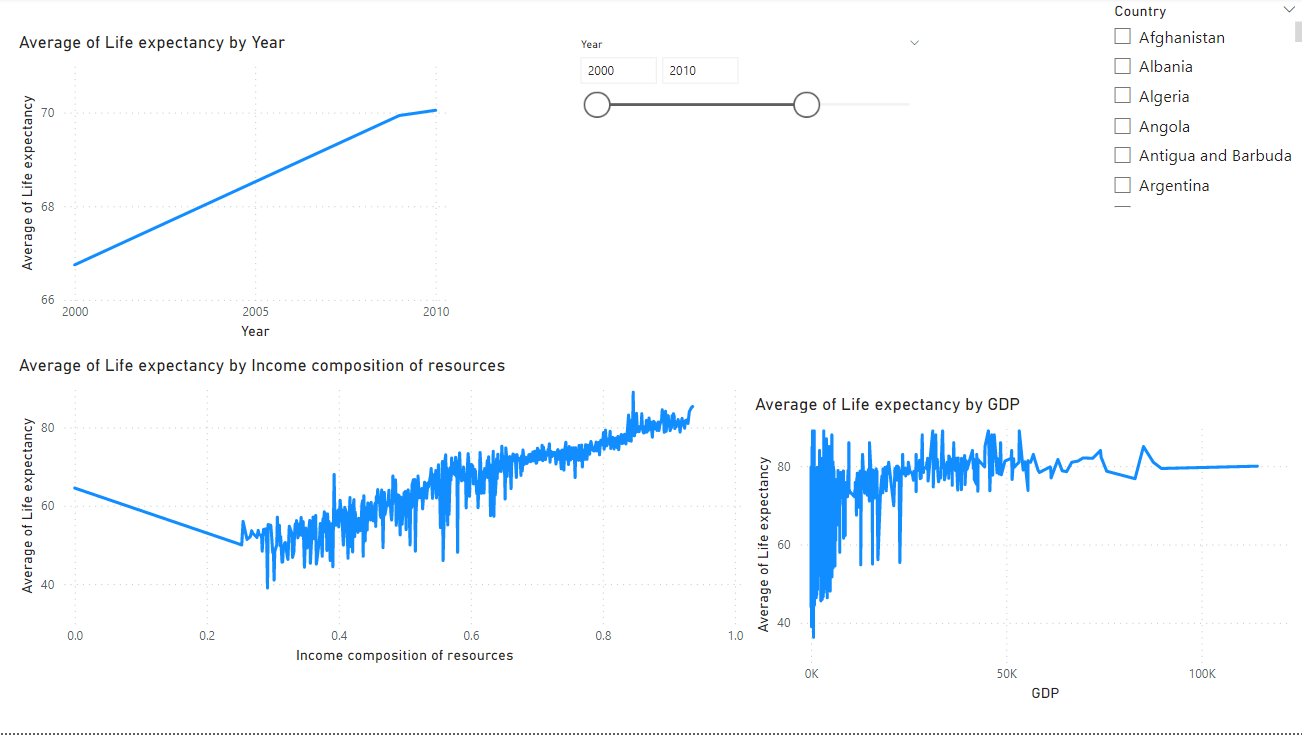

What the dashboard file says about the page in this screenshot:
{"tool":"powerbi","page":{"name":"Life_expectancy_analysis","canvas":[1280,720],"ordinal":1},"visuals":[{"type":"lineChart","fields":{"Category":["in.Year"],"Y":["Avg(in.Life expectancy )"]},"box":[13.7,34.3,430.9,306],"z":0},{"type":"slicer","fields":{"Values":["in.Country"]},"box":[1076.9,0,202.9,210.3],"z":3000},{"type":"lineChart","fields":{"Y":["Avg(in.Life expectancy )"],"Category":["in.Income composition of resources"]},"box":[13.4,349.6,720,306.8],"z":3001},{"type":"lineChart","fields":{"Y":["Avg(in.Life expectancy )"],"Category":["in.GDP"]},"box":[733.4,387.5,536.6,306.8],"z":3002},{"type":"slicer","fields":{"Values":["in.Year"]},"box":[555,34.2,356.9,118.6],"z":3003}]}

Visuals, with their boxes in screenshot pixels (x1, y1, x2, y2), scaled from the page's 1280x720 canvas onto the 1302x736 screenshot:
lineChart - in.Year x Avg(in.Life expectancy ): 14 35 452 348
slicer - in.Country: 1095 0 1301 215
lineChart - Avg(in.Life expectancy ) x in.Income composition of resources: 14 357 746 671
lineChart - Avg(in.Life expectancy ) x in.GDP: 746 396 1292 710
slicer - in.Year: 565 35 928 156
